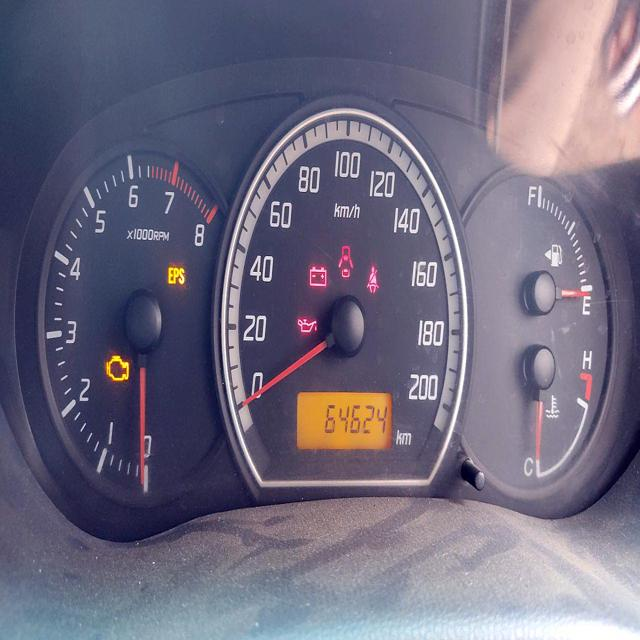odometer: (321, 398, 388, 438)
